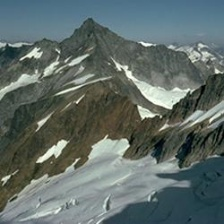neutral: (2, 2, 223, 224)
